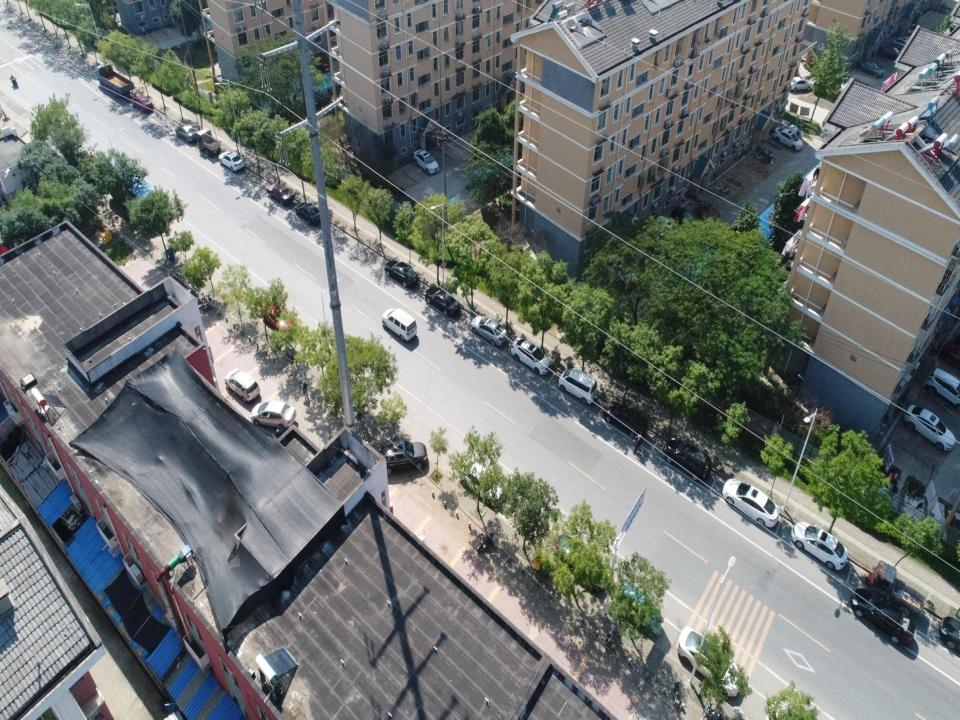car: (676, 625, 741, 698), (850, 587, 916, 647), (554, 533, 604, 590), (722, 478, 779, 527), (790, 522, 848, 570), (903, 404, 956, 451), (662, 435, 711, 481), (620, 580, 661, 634), (111, 156, 152, 208), (460, 458, 503, 507), (603, 400, 649, 438), (377, 441, 428, 475), (511, 336, 551, 375), (250, 400, 296, 429), (923, 368, 959, 404), (224, 368, 260, 403), (260, 299, 295, 333), (471, 315, 508, 347), (382, 308, 417, 341), (424, 285, 460, 317), (384, 260, 418, 288), (669, 205, 699, 232), (412, 148, 439, 175), (266, 182, 294, 207), (294, 202, 322, 227), (773, 127, 803, 150), (218, 151, 245, 172), (339, 132, 354, 165), (860, 60, 884, 78), (788, 76, 812, 94), (176, 123, 196, 143), (132, 95, 154, 113), (880, 45, 899, 57), (891, 34, 908, 47)
truck: (865, 560, 925, 616), (96, 63, 134, 99), (197, 128, 220, 158)
van: (558, 366, 598, 404)
